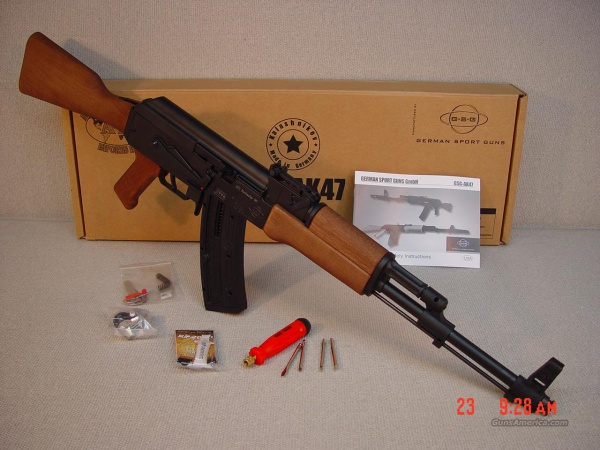ak47: (20, 33, 554, 415)
